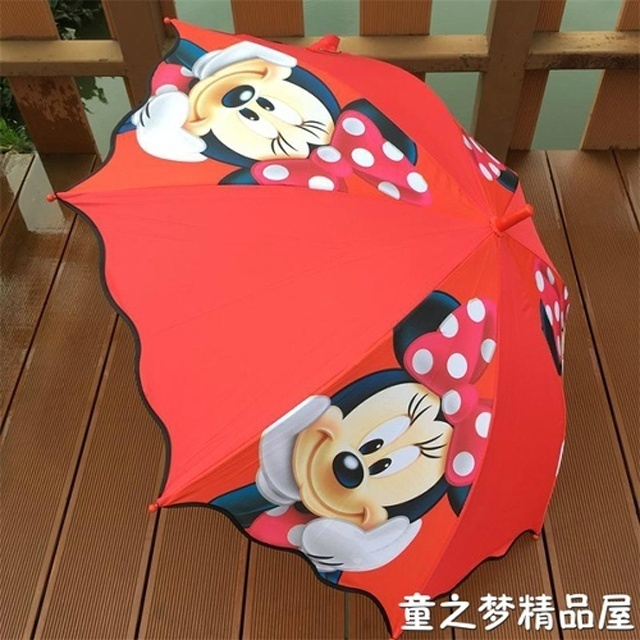umbrella: (46, 13, 574, 640)
